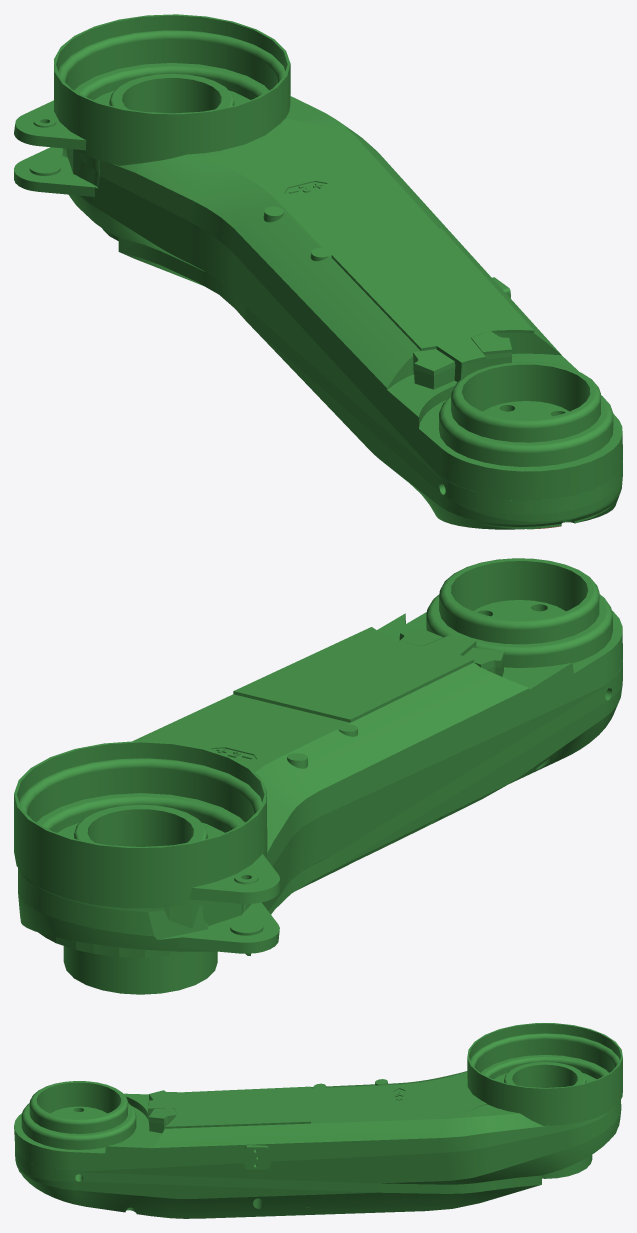
3 renders of one model, top to bottom at view 1: azimuth 30°, elevation 25°; view 2: azimuth 150°, elevation 25°; view 3: azimuth 270°, elevation 25°, orthographic. The views are drawn at different scales.
Parts seen in each view (by area): view 1: Cuerpo2, Cuerpo1:1; view 2: Cuerpo2, Cuerpo1:1; view 3: Cuerpo2, Cuerpo1:1.
Boxes of the visible parts, x1,y1,x2,y2 form: Cuerpo2: (14, 14, 622, 529); Cuerpo1:1: (288, 228, 622, 500); Cuerpo2: (14, 600, 622, 994); Cuerpo1:1: (233, 558, 622, 816); Cuerpo2: (15, 1023, 622, 1218); Cuerpo1:1: (14, 1081, 310, 1180).
Bounding box in the file's own units: 9.97 × 7.65 × 29.66.
